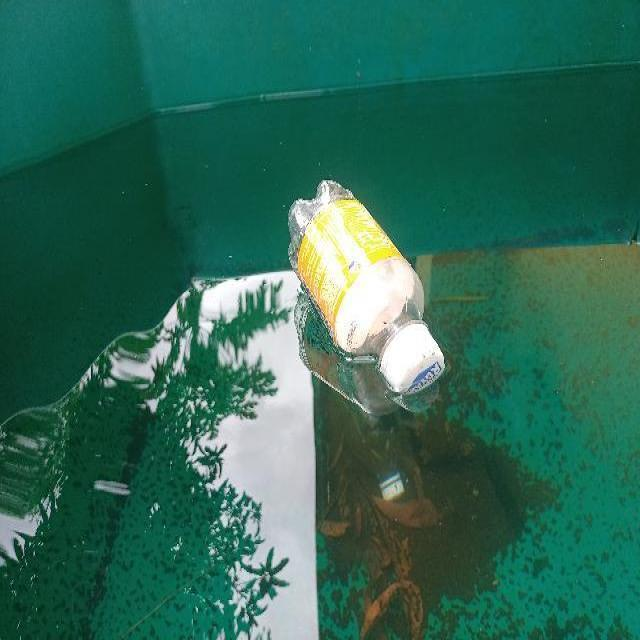Bottle: (270, 168, 473, 406)
